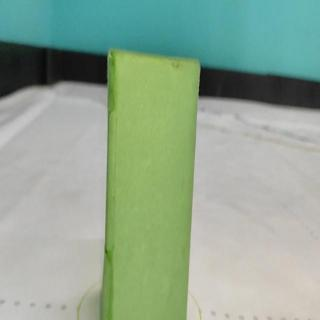greenbox: (103, 49, 201, 320)
